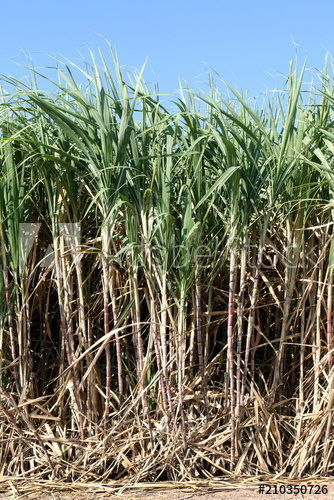sugarcane: (1, 37, 332, 477)
